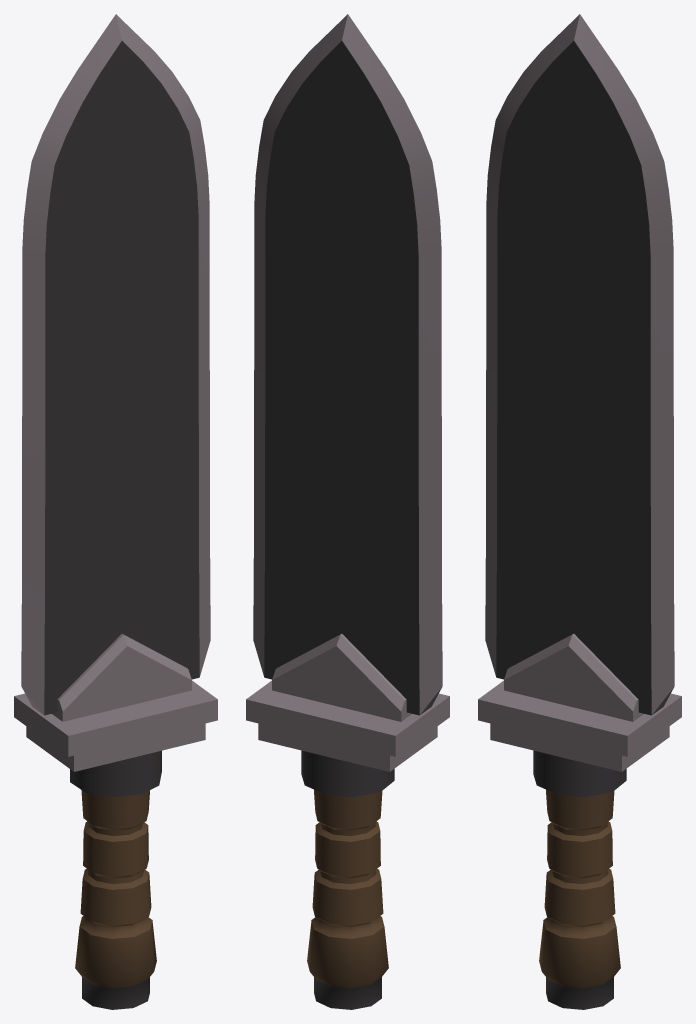
File: quaternius-pirate-weapon-sword.glb
3 views of the same model, side by side, from view 1: azimuth 30°, elevation 25°; view 2: azimuth 150°, elevation 25°; view 3: azimuth 330°, elevation 25° (orthographic).
Parts seen in each view (by area): view 1: Weapon_Sword_1; view 2: Weapon_Sword_1; view 3: Weapon_Sword_1.
Part boxes in pixels (<box>): Weapon_Sword_1: <box>14,14,217,1009</box>; Weapon_Sword_1: <box>246,14,449,1009</box>; Weapon_Sword_1: <box>478,14,681,1009</box>.
Size of the model in its own units: 0.2753 by 1.37 by 0.1367.
Materials: 1 (1 with a texture image).
